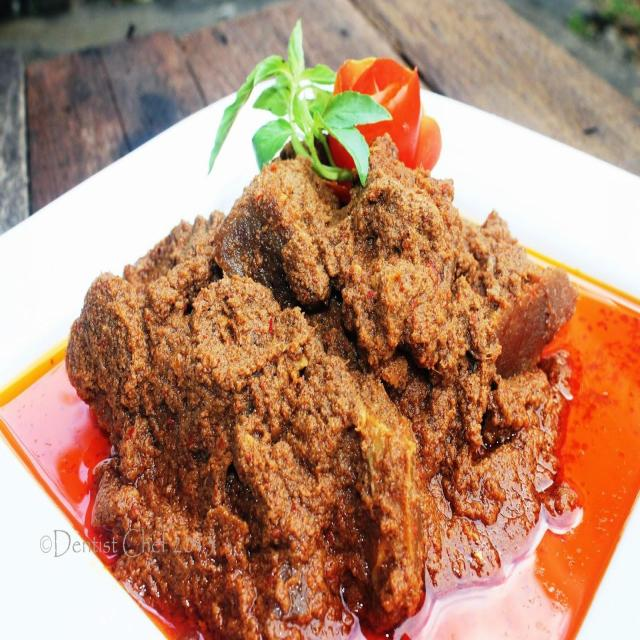Rendang: (54, 140, 609, 630)
